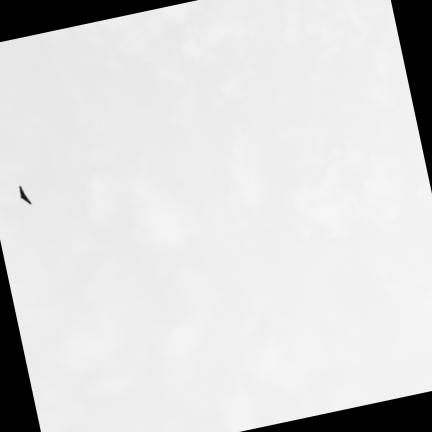Shahed: (20, 185, 31, 203)
